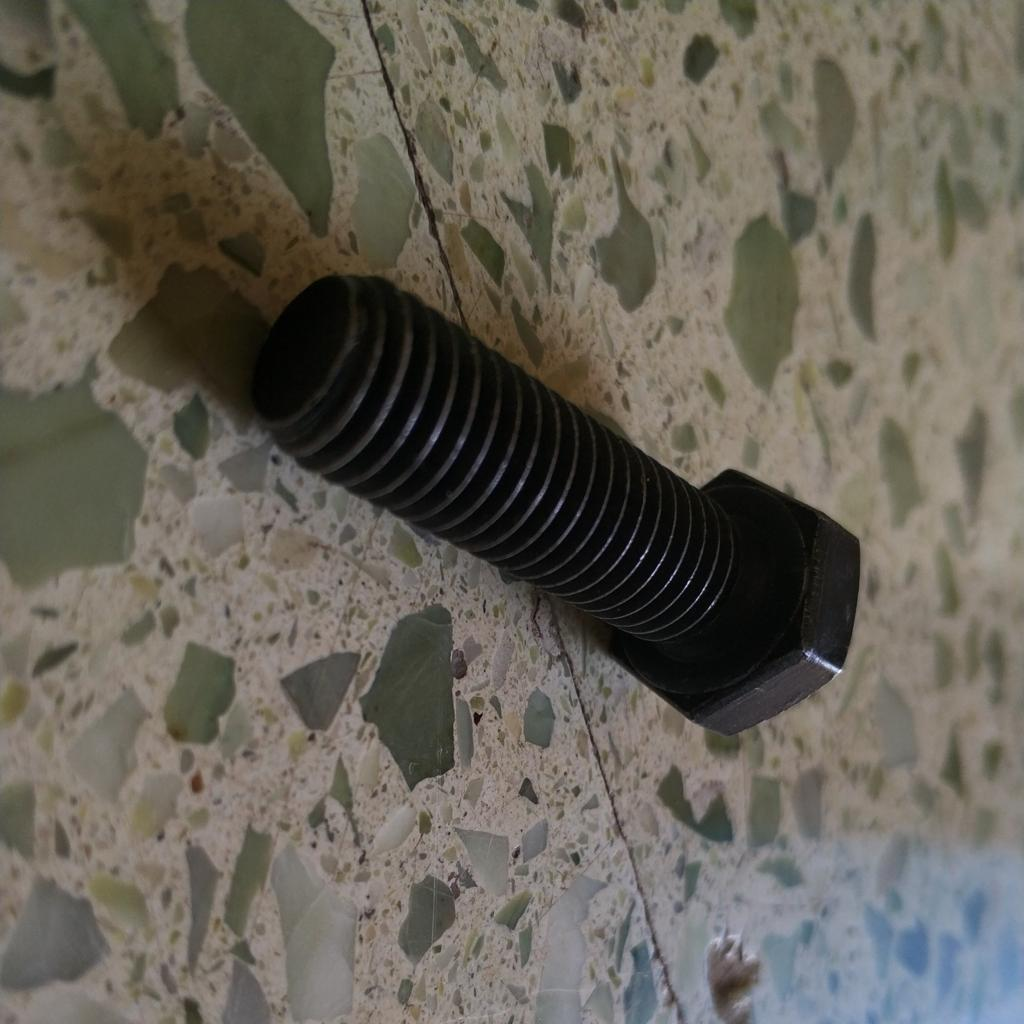screwtype2black: (245, 264, 865, 742)
